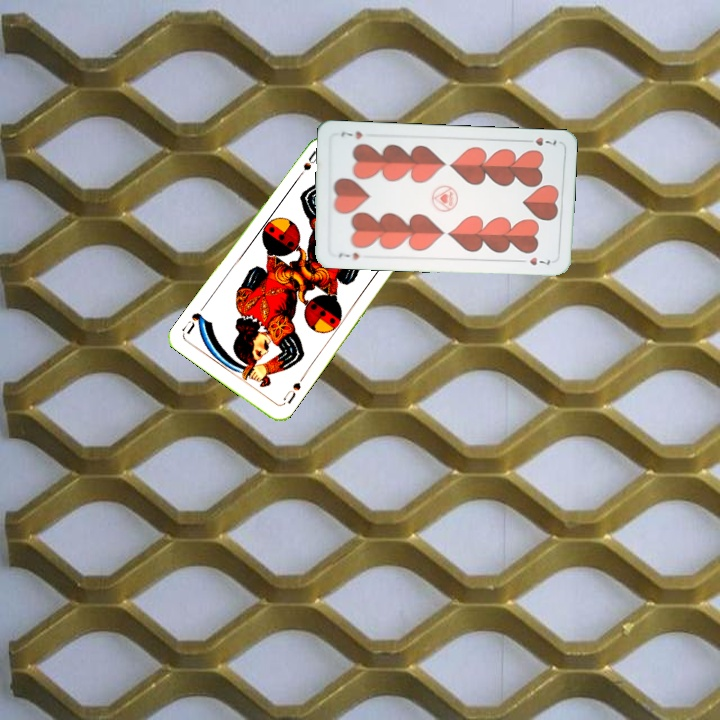H7: (520, 133, 559, 148), (334, 248, 362, 263)
SU: (291, 148, 322, 184), (279, 378, 304, 406)
